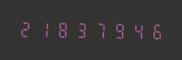eight: (53, 19, 70, 39)
four: (125, 20, 142, 40)
nine: (107, 20, 124, 40)
one: (35, 19, 52, 39)
seven: (89, 19, 106, 40)
six: (143, 20, 160, 41)
three: (71, 19, 88, 39)
two: (17, 18, 34, 39)
